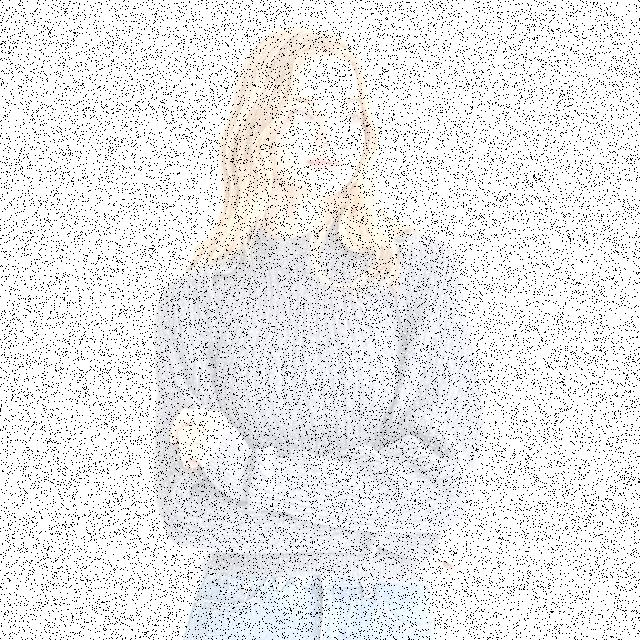Blouse_deep: (148, 214, 486, 579)
